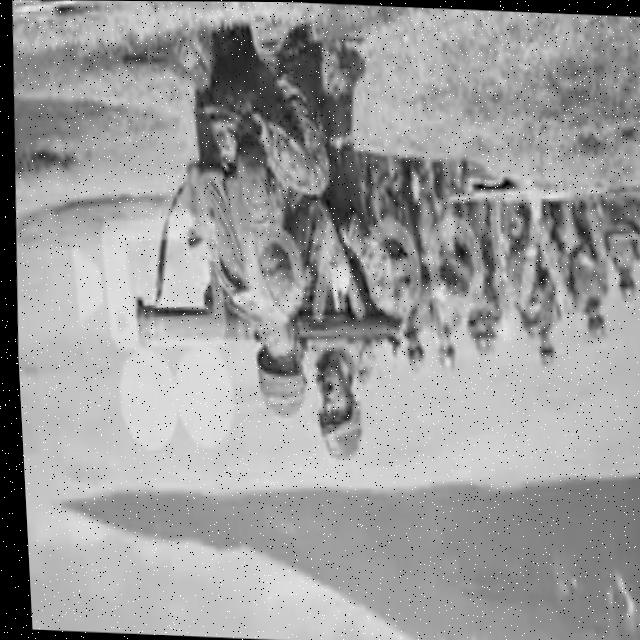rocket: (129, 276, 401, 369)
